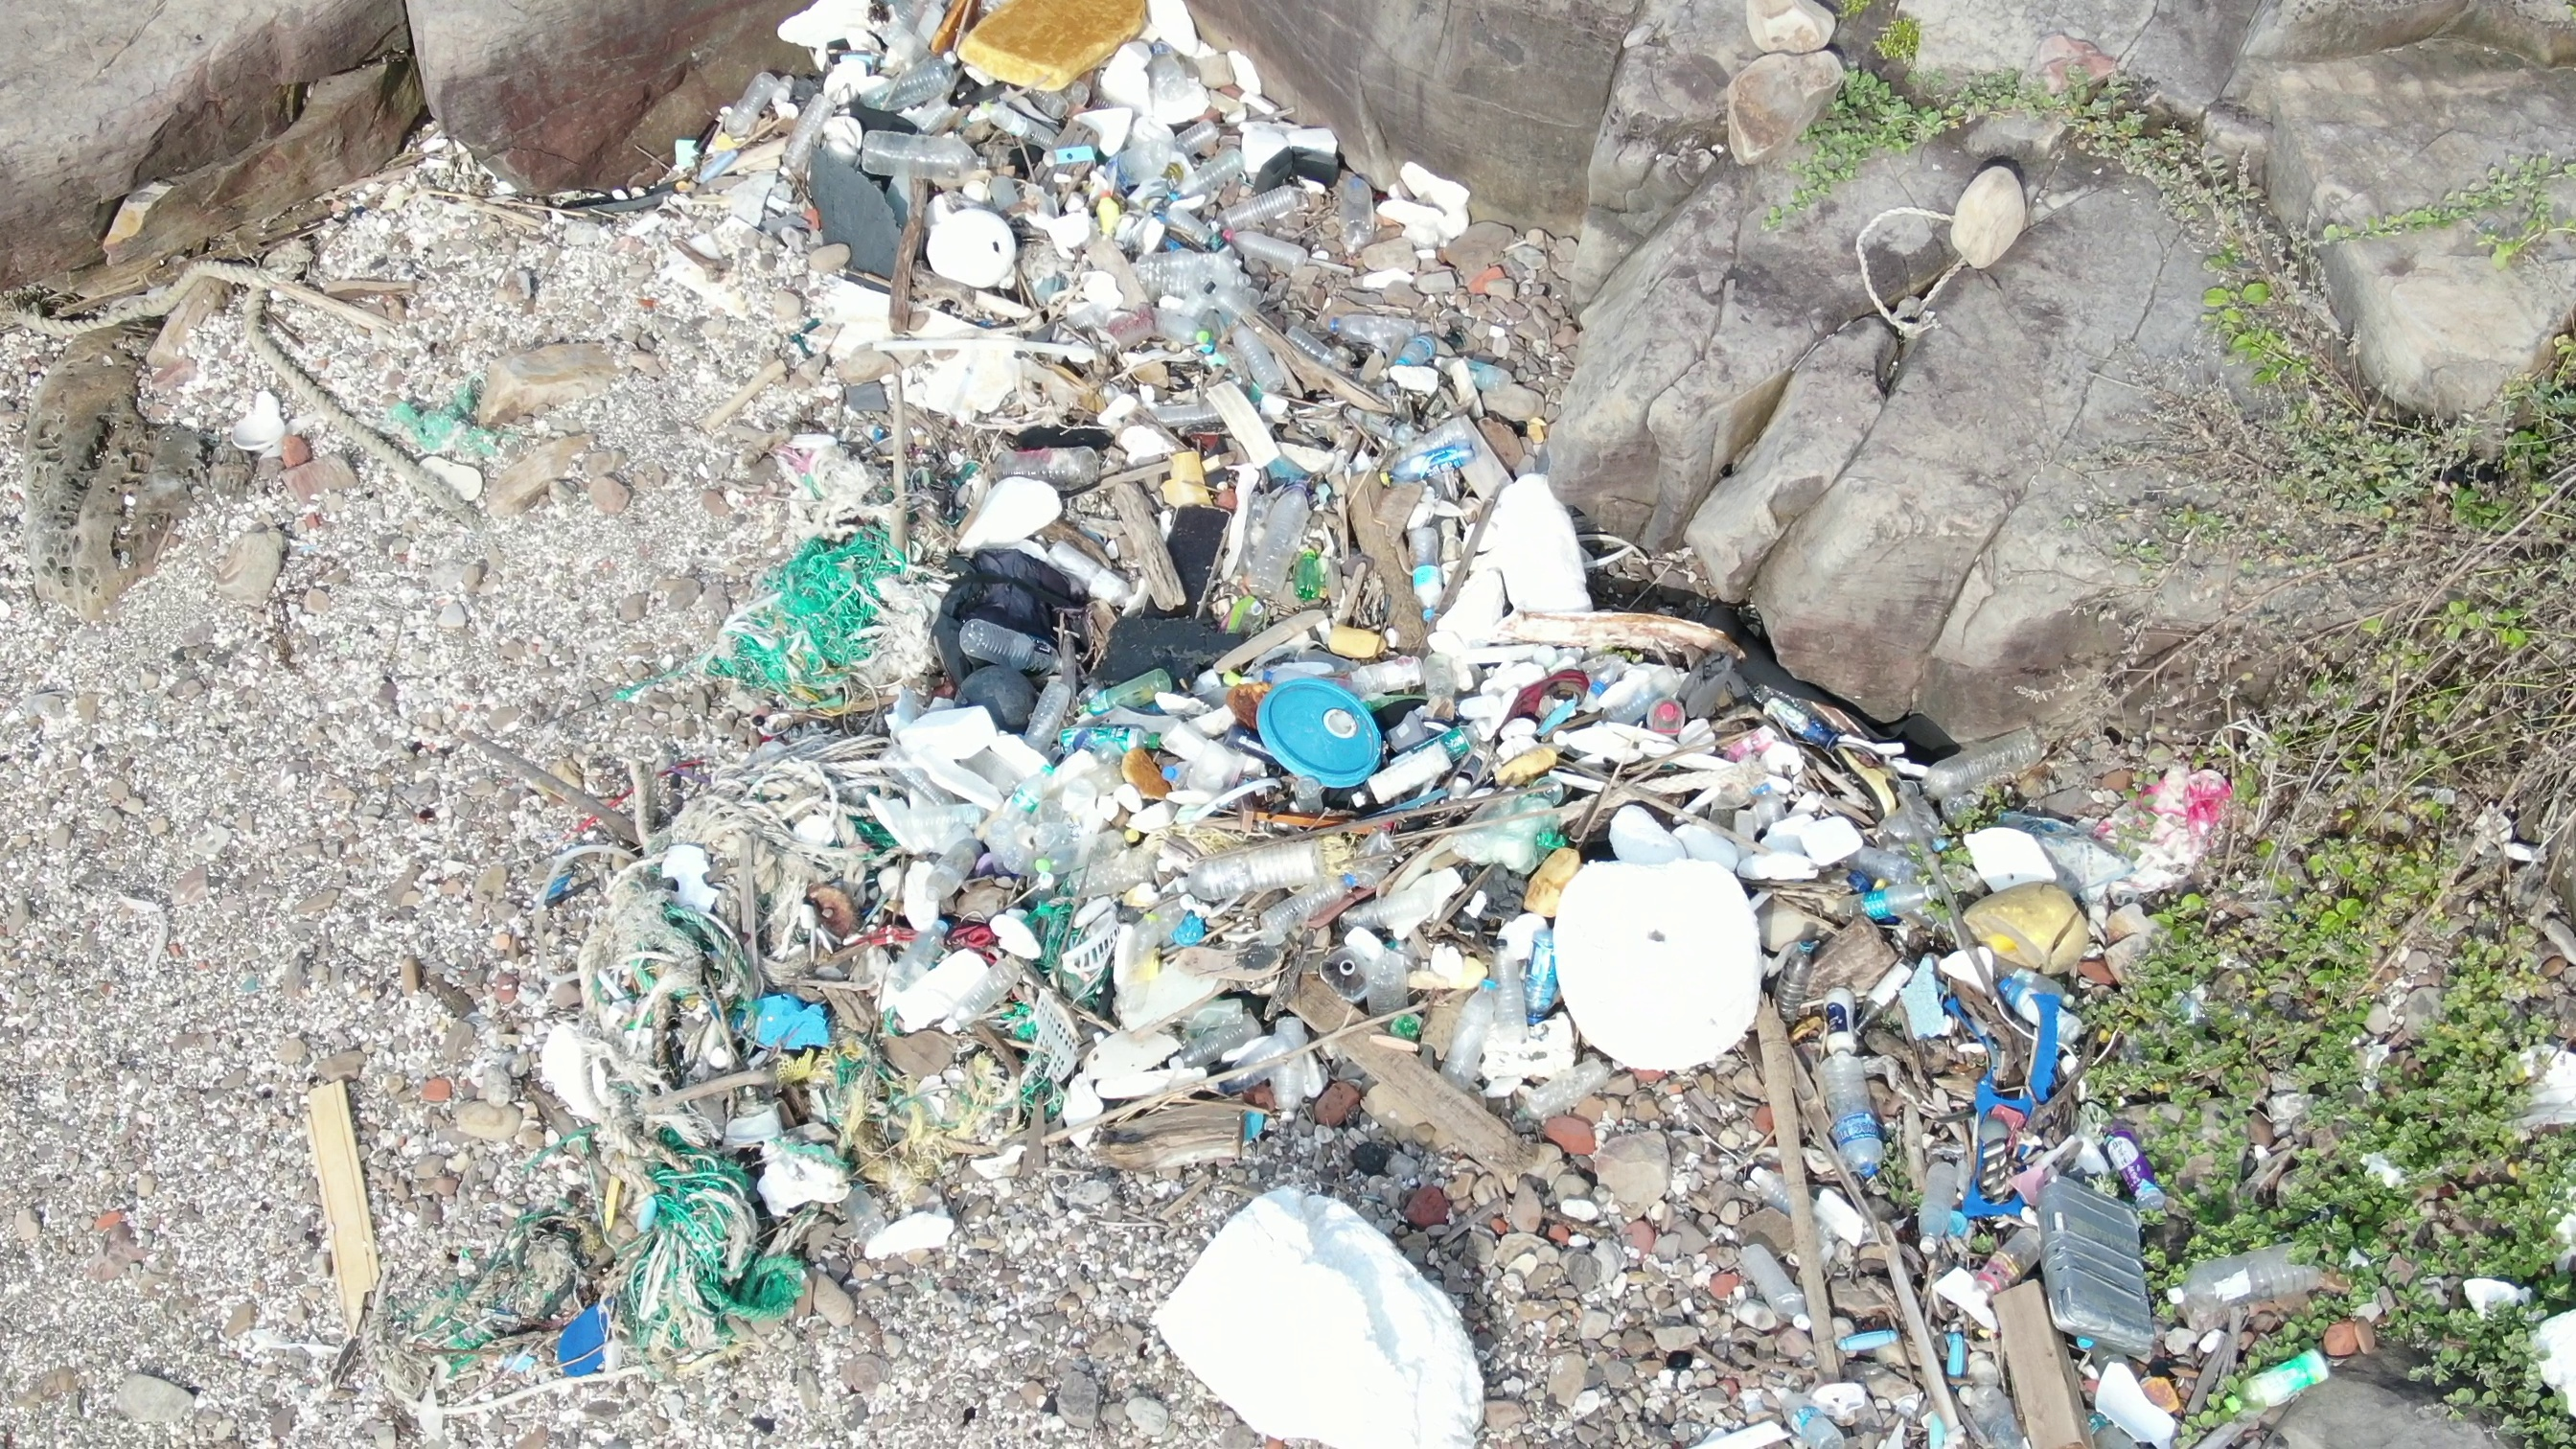bottle: (1169, 824, 1327, 913), (1258, 465, 1336, 621), (1813, 1044, 1898, 1185), (2167, 1238, 2348, 1304), (957, 614, 1095, 686), (1920, 722, 2051, 791), (849, 122, 994, 184), (2212, 1348, 2328, 1421), (1445, 968, 1513, 1086), (1380, 709, 1491, 780), (2098, 1118, 2180, 1214), (847, 53, 959, 122), (878, 911, 959, 1005), (975, 439, 1125, 488), (916, 817, 1001, 904), (1829, 867, 1941, 927), (1265, 1005, 1315, 1131), (1014, 672, 1077, 770), (1382, 435, 1491, 488), (1773, 931, 1819, 1047), (1122, 255, 1238, 301), (1047, 727, 1185, 764), (720, 69, 786, 147), (1228, 315, 1290, 396), (1764, 1385, 1842, 1449), (1316, 303, 1431, 345), (1175, 147, 1249, 212), (1205, 186, 1302, 235), (1090, 669, 1191, 717), (1812, 982, 1867, 1065), (1911, 1159, 1950, 1267), (1154, 111, 1217, 177), (1527, 924, 1562, 1026), (1364, 947, 1407, 1031), (1385, 331, 1444, 375), (1460, 354, 1514, 396)
garbage: (407, 609, 2346, 1449), (633, 2, 1601, 773), (2, 251, 517, 531), (2495, 964, 2574, 1449), (1835, 175, 2020, 354)
